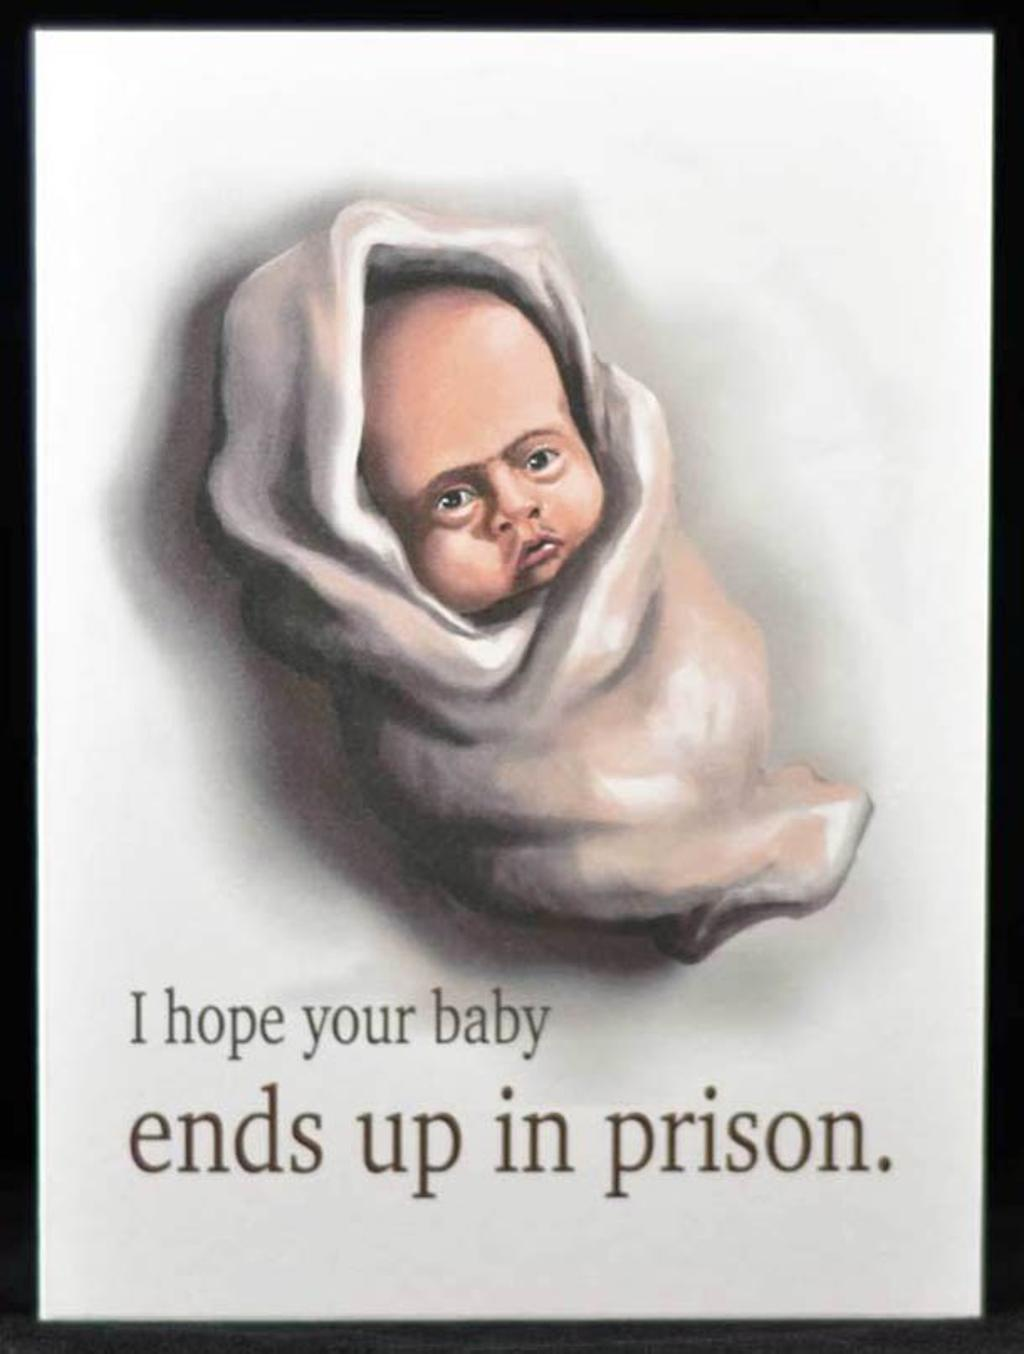face: (369, 305, 607, 607)
